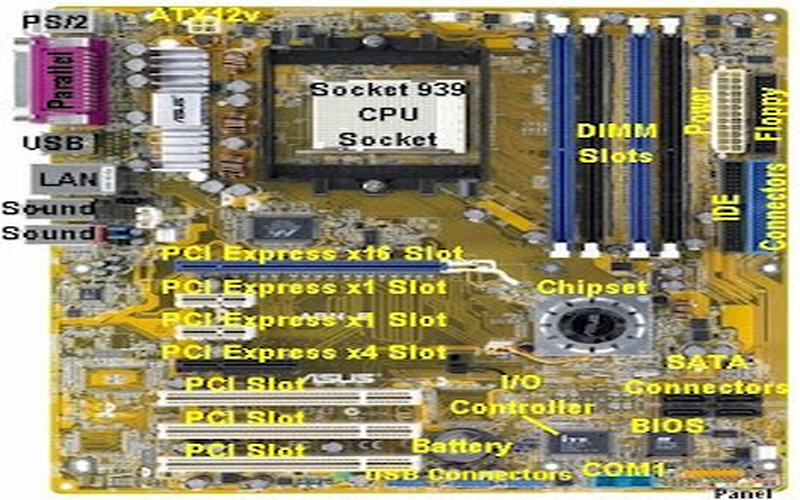Cirtuit-Board: (18, 1, 797, 500)
